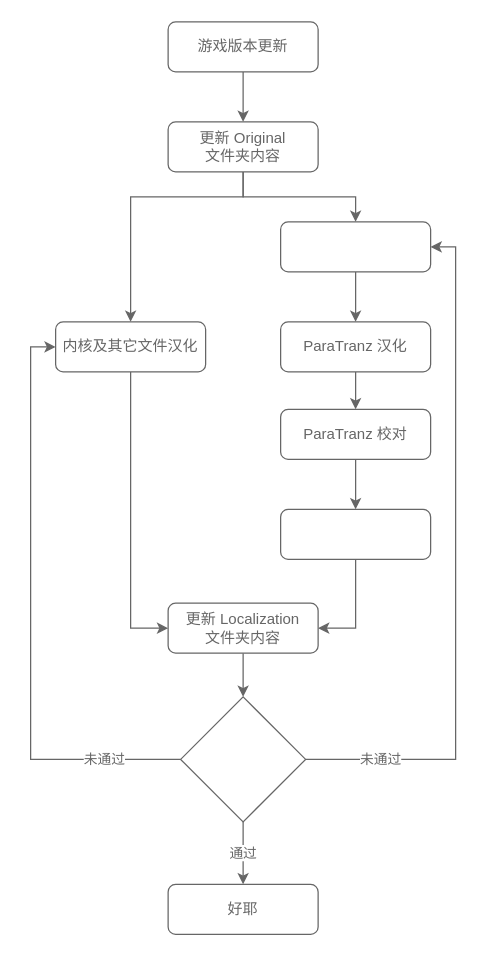
The diagram is 488 pixels wide and 956 high, and some of its shapes have lost their labels. The box of each missing label's shape, as (x1, y1, x2, y2) in pixels:
csv使用工具同步到 ParaTranz: (279, 221, 431, 272)
ParaTranz数据 使用工具转换回csv: (279, 508, 431, 559)
测试: (179, 696, 306, 822)
